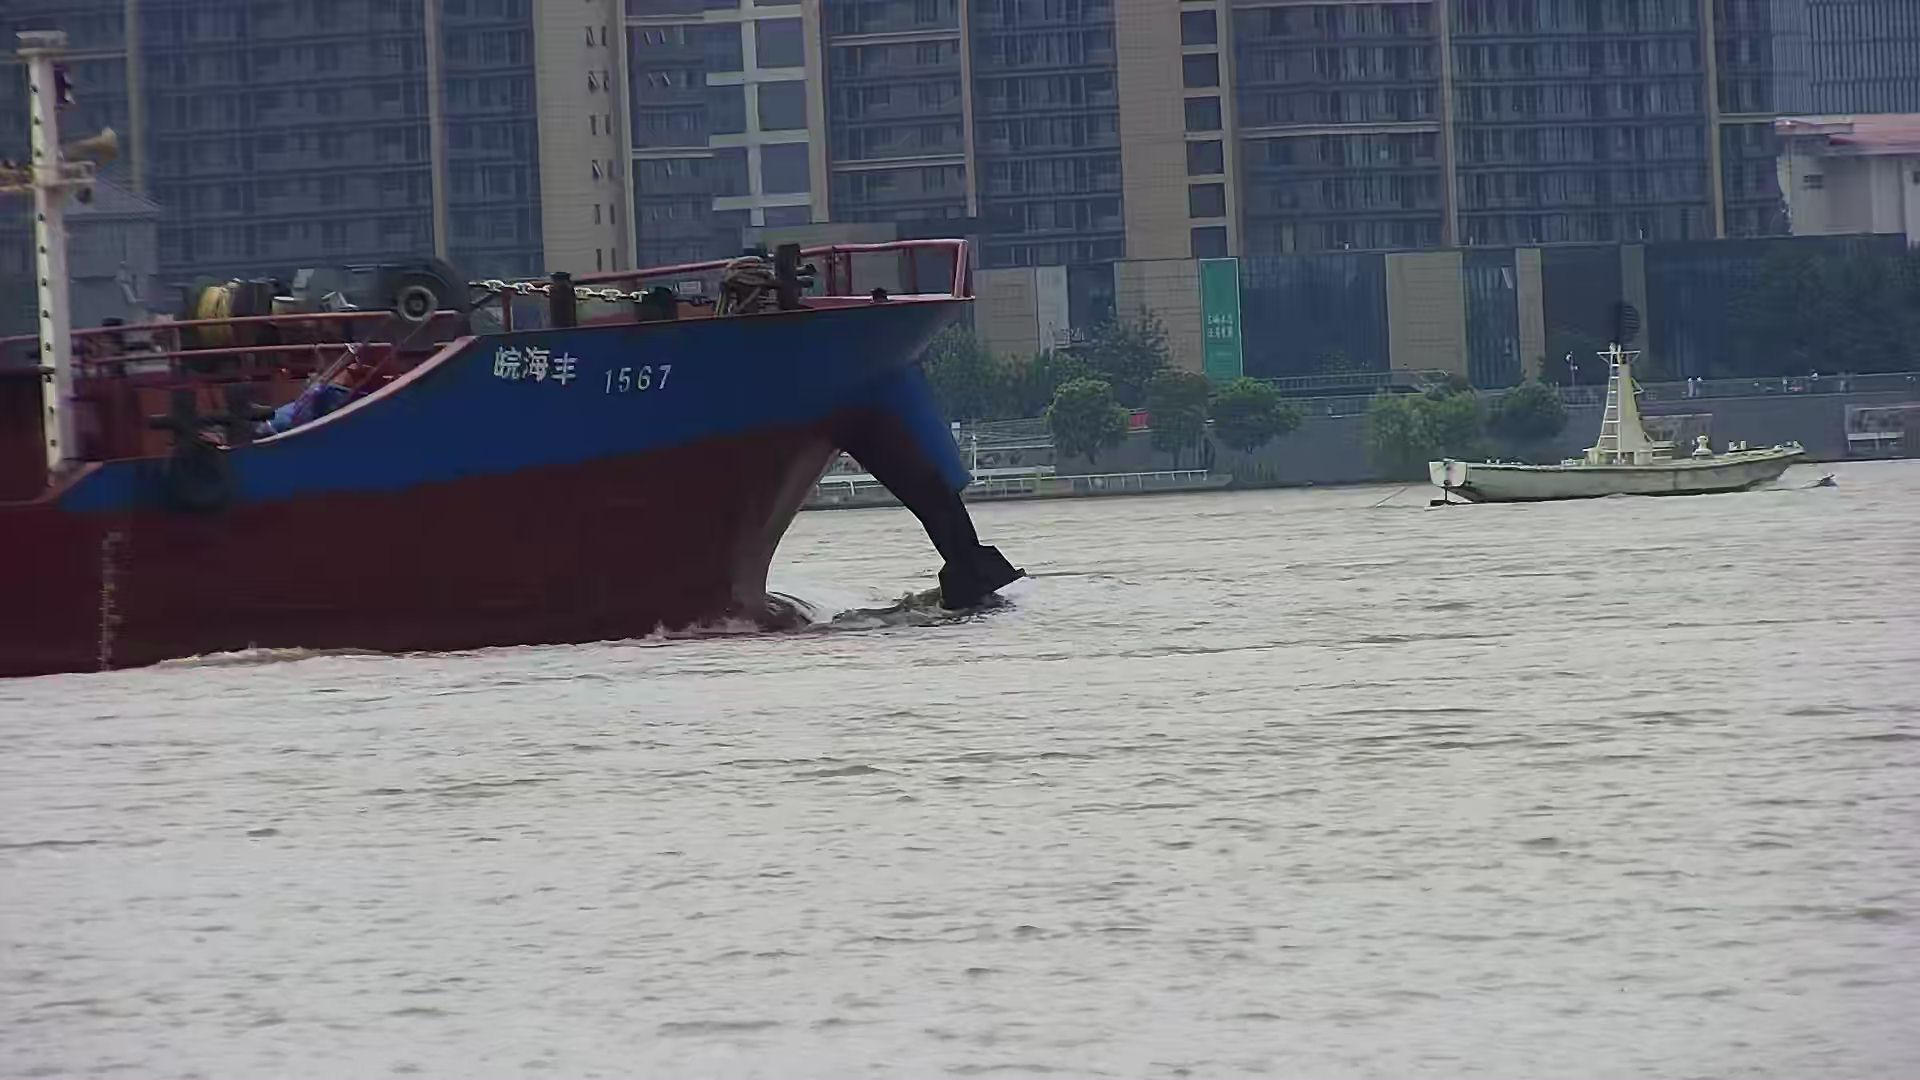boat: (1429, 336, 1815, 498)
ship: (1, 29, 1029, 678)
